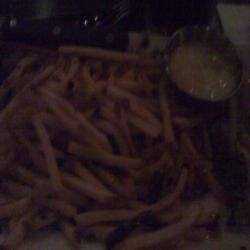fries: (3, 48, 197, 235)
